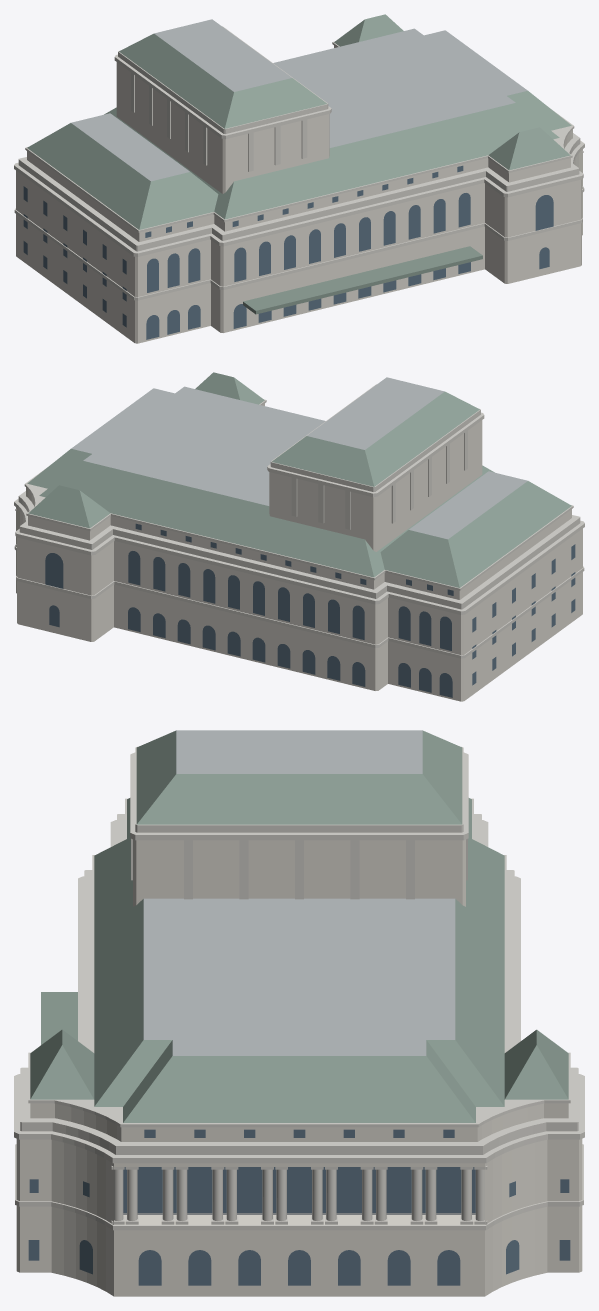
Rendered from sf-opera-house.glb.
3 views of the same model, one above another, from view 1: azimuth 30°, elevation 25°; view 2: azimuth 150°, elevation 25°; view 3: azimuth 270°, elevation 25° (orthographic). The views are drawn at different scales.
Visible parts, largest first — view 1: War Memorial Opera House; view 2: War Memorial Opera House; view 3: War Memorial Opera House.
Boxes of the visible parts, <box> form: War Memorial Opera House: <box>14,14,584,343</box>; War Memorial Opera House: <box>14,372,584,701</box>; War Memorial Opera House: <box>14,730,584,1296</box>.
Bounding box in the file's own units: 105 × 46.4 × 75.1.
